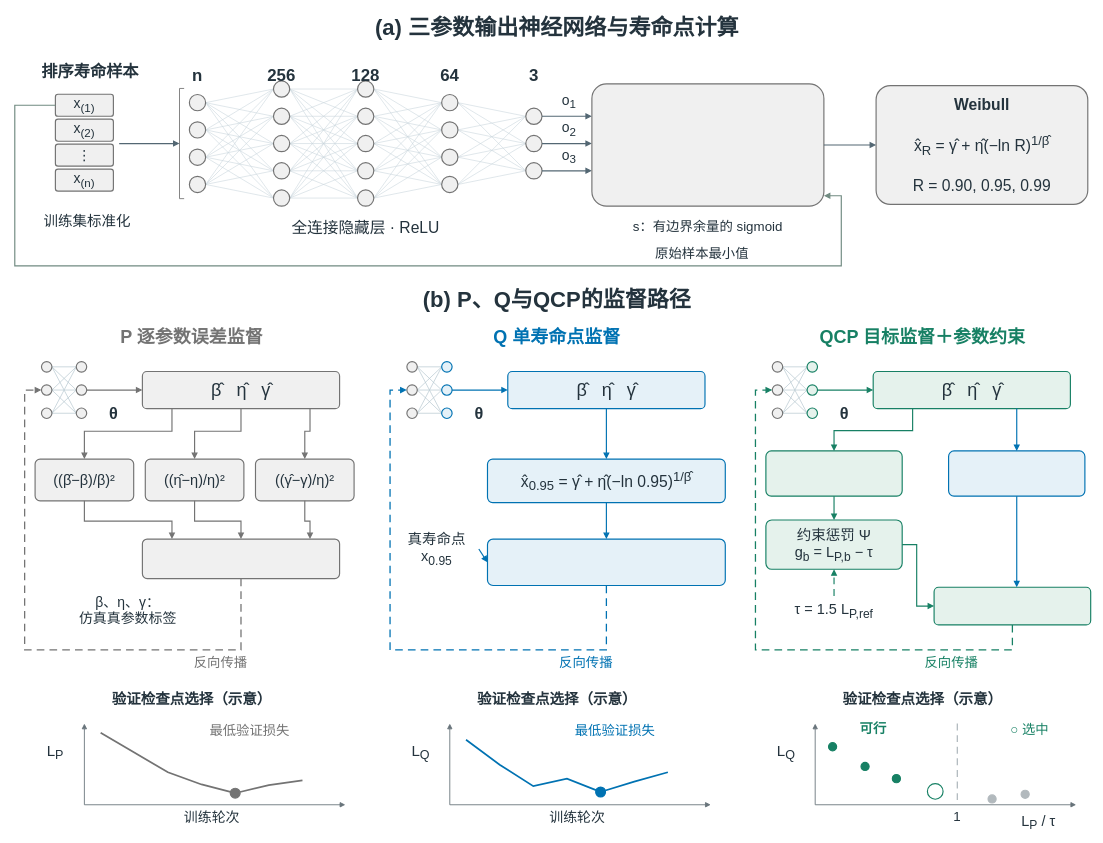
The diagram is 1103 pixels wide and 843 high, and some of its shapes have lost their labels. The box of each missing label's shape, as (x1, y1, x2, y2) in pixels:
L AL,b = L Q,b + Ψ: (933, 586, 1091, 625)
L P = mean(Σ): (142, 538, 340, 579)
L P,b 参数误差: (765, 450, 902, 496)
L Q = mean[((x̂ 0.95 −x 0.95 )/x 0.95 )²]: (487, 538, 726, 586)
L Q,b 经 x̂ 0.95 计算: (948, 450, 1085, 496)
参数解码 β̂ = softplus(o₁) + ε η̂ = softplus(o₂) + ε γ̂ = min(X) · s(o₃): (591, 83, 824, 206)
